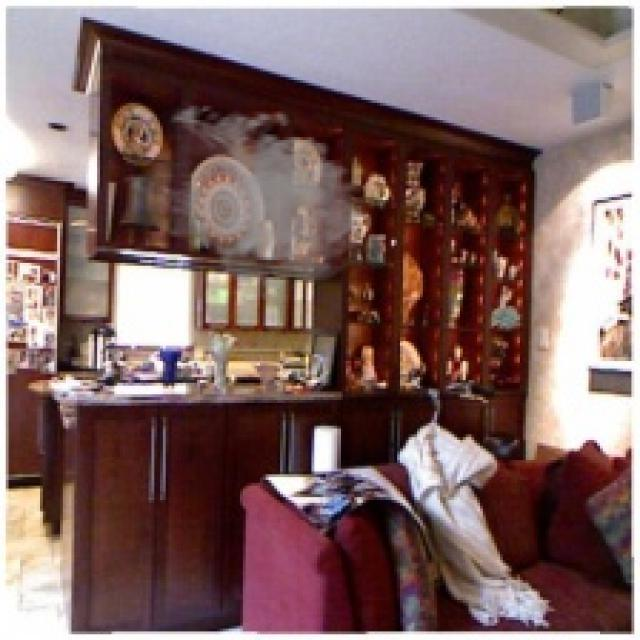Smoke: (137, 100, 374, 303)
